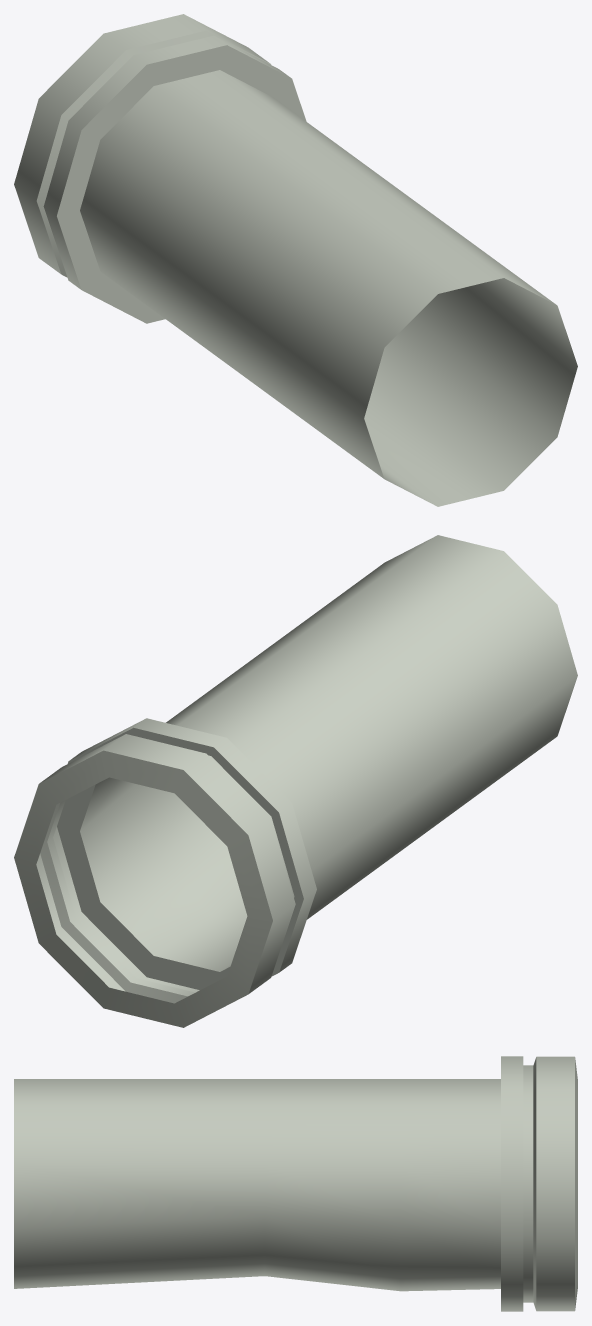
File: SM_pipe_modular_gray_C.fbx
The picture shows the model from 3 angles, top to bottom: view 1: azimuth 30°, elevation 25°; view 2: azimuth 150°, elevation 25°; view 3: azimuth 270°, elevation 25°; orthographic projection. The views are drawn at different scales.
Parts seen in each view (by area): view 1: pCylinder87; view 2: pCylinder87; view 3: pCylinder87.
Part boxes in pixels (left/top/right/bottom): pCylinder87: left=14, top=14, right=577, bottom=506; pCylinder87: left=14, top=535, right=577, bottom=1027; pCylinder87: left=14, top=1056, right=577, bottom=1311.
Size of the model in its own units: 122 by 116 by 267.
